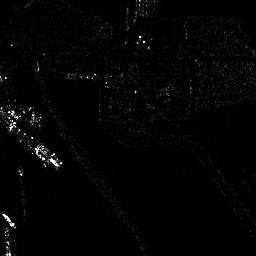ship: (3, 227, 11, 256)
